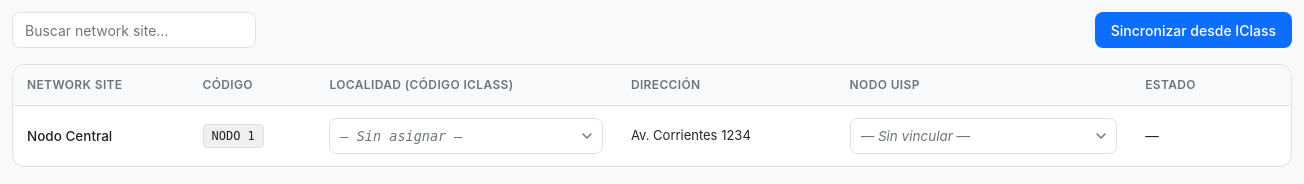
UispNodeMappingBody › SCEN-FE-NM-07: 422 UISP_SITE_NOT_FOUND → error indicator on that row
Select "Site Alpha" in the dropdown named "Nodo UISP para Nodo Central" at point(983, 136), box [850,118,1117,154]
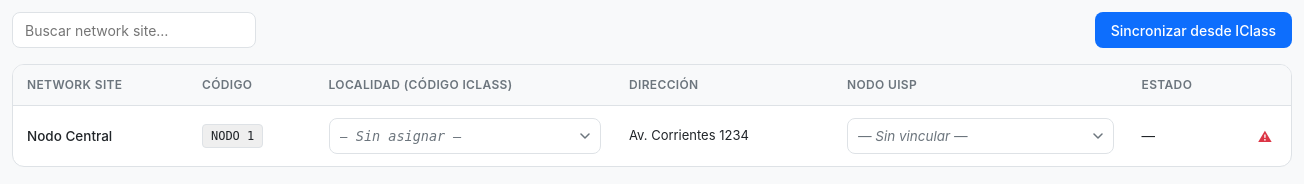
Now the text named "error" is shown, box [1258,128,1272,144]
